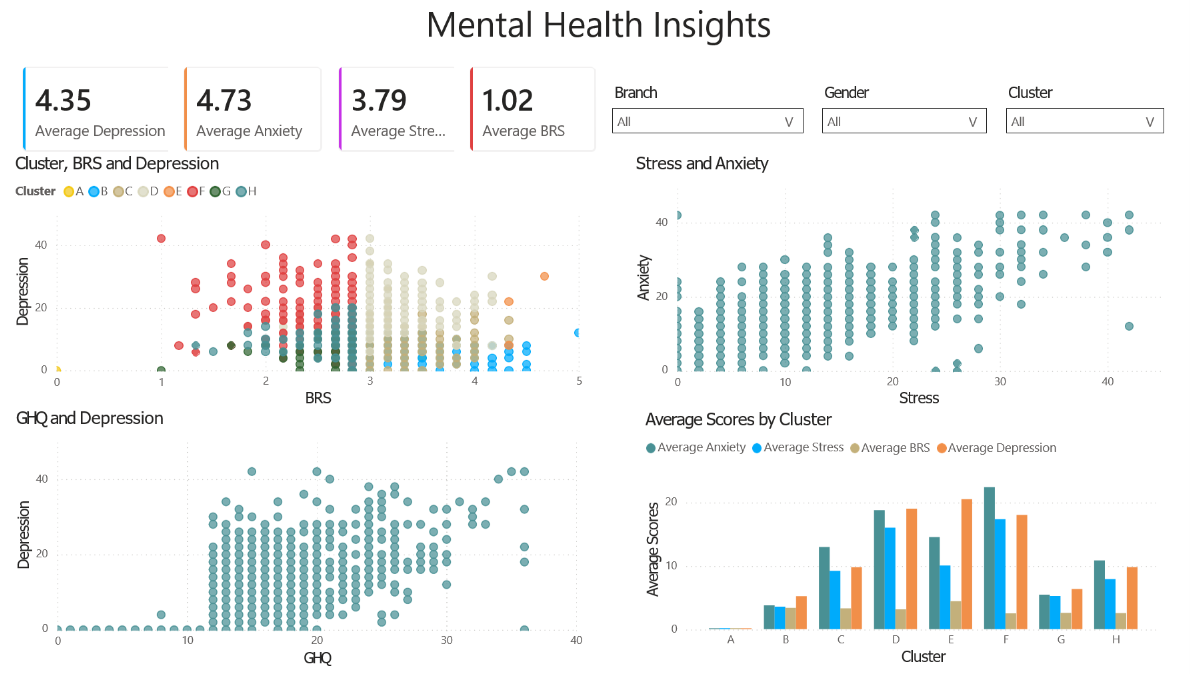

This screenshot's page, from the dashboard's own definition file:
{"tool":"powerbi","page":{"name":"Mental Health Insights","canvas":[1280,720],"ordinal":2},"visuals":[{"type":"textbox","box":[113,0,1054.3,60.7],"z":0},{"type":"cardVisual","fields":{"Data":["Avg(processing.Depression)"]},"box":[8.3,60,256.7,123.3],"z":1000},{"type":"cardVisual","fields":{"Data":["Avg(processing.Stress)"]},"box":[345,60,160,123.3],"z":2000},{"type":"cardVisual","fields":{"Data":["Avg(processing.Anxiety)"]},"box":[180,60,180,123.3],"z":3000},{"type":"cardVisual","fields":{"Data":["Avg(processing.BRS)"]},"box":[485,60,166.7,123.3],"z":4000},{"type":"scatterChart","fields":{"X":["processing.BRS"],"Y":["processing.Depression"],"Series":["processing.Cluster"]},"box":[11.7,170,615,273.3],"z":5000},{"type":"scatterChart","fields":{"Y":["processing.Anxiety"],"X":["processing.Stress"]},"box":[673.8,169.6,576.9,274.1],"z":6000},{"type":"scatterChart","fields":{"X":["processing.GHQ"],"Y":["processing.Depression"]},"box":[13.3,443.3,613.3,276.7],"z":7000},{"type":"clusteredColumnChart","title":"Average Scores by Cluster","fields":{"Category":["processing.Cluster"],"Y":["Avg(processing.Anxiety)","Avg(processing.Stress)","processing.Average BRS","Avg(processing.Depression)"]},"box":[684.4,443.7,558.7,275.6],"z":8000},{"type":"slicer","fields":{"Values":["processing.Branch"]},"box":[643.3,91.7,223.3,65],"z":9000},{"type":"slicer","fields":{"Values":["processing.Gender"]},"box":[866.7,91.7,196.7,56.7],"z":10000},{"type":"slicer","fields":{"Values":["processing.Cluster"]},"box":[1063.3,91.7,188.3,70],"z":11000}]}

Visuals, with their boxes in screenshot pixels (x1, y1, x2, y2), scaled from the page's 1280x720 canvas onto the 1190x674 screenshot:
textbox: pyautogui.locateOnScreen(105, 0, 1085, 57)
cardVisual - Avg(processing.Depression): pyautogui.locateOnScreen(8, 56, 246, 172)
cardVisual - Avg(processing.Stress): pyautogui.locateOnScreen(321, 56, 469, 172)
cardVisual - Avg(processing.Anxiety): pyautogui.locateOnScreen(167, 56, 335, 172)
cardVisual - Avg(processing.BRS): pyautogui.locateOnScreen(451, 56, 606, 172)
scatterChart - processing.BRS x processing.Depression: pyautogui.locateOnScreen(11, 159, 583, 415)
scatterChart - processing.Anxiety x processing.Stress: pyautogui.locateOnScreen(626, 159, 1163, 415)
scatterChart - processing.GHQ x processing.Depression: pyautogui.locateOnScreen(12, 415, 583, 673)
"Average Scores by Cluster" clusteredColumnChart: pyautogui.locateOnScreen(636, 415, 1156, 673)
slicer - processing.Branch: pyautogui.locateOnScreen(598, 86, 806, 147)
slicer - processing.Gender: pyautogui.locateOnScreen(806, 86, 989, 139)
slicer - processing.Cluster: pyautogui.locateOnScreen(989, 86, 1164, 151)
